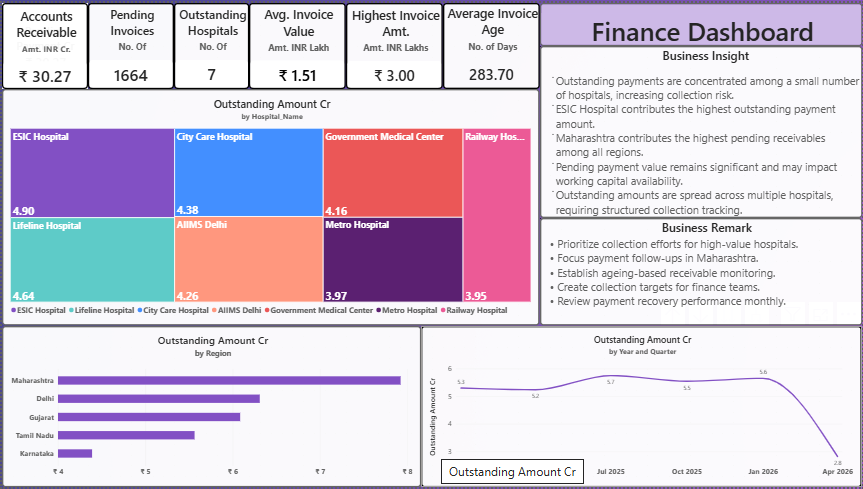

Layout of this report page (visuals, bound fields, positions):
{"tool":"powerbi","page":{"name":"Finance Dashboard","canvas":[1920,1080],"ordinal":2},"visuals":[{"type":"cardVisual","fields":{"Data":["Payment_Tracking.Pending Payment Cr"]},"box":[0,0,192,192],"z":0},{"type":"cardVisual","title":"Accounts Receivable","fields":{"Data":["Payment_Tracking.Pending Payment Cr"]},"box":[0,0,192,192],"z":1000},{"type":"cardVisual","title":"Pending Invoices","fields":{"Data":["Payment_Tracking.Pending Invoices"]},"box":[192,0,192,192],"z":2000},{"type":"cardVisual","title":"Outstanding Hospitals","fields":{"Data":["Payment_Tracking.Outstanding Hospitals"]},"box":[384,0,168,192],"z":3000},{"type":"cardVisual","title":"Highest Invoice Amt.","fields":{"Data":["Payment_Tracking.Highest Outstanding Amount  (₹ Lakh)"]},"box":[768,0,216,192],"z":4000},{"type":"cardVisual","title":"Average Invoice Age","fields":{"Data":["Payment_Tracking.Payment Age Days"]},"box":[984,0,216,192],"z":5000},{"type":"cardVisual","title":"Avg. Invoice Value","fields":{"Data":["Payment_Tracking.Average Outstanding Amount Lakh"]},"box":[552,0,216,192],"z":6000},{"type":"treemap","fields":{"Group":["Payment_Tracking.Hospital_Name"],"Values":["Payment_Tracking.Outstanding Amount Cr"]},"box":[0,192,1200,528],"z":7000},{"type":"clusteredBarChart","fields":{"Y":["Payment_Tracking.Outstanding Amount Cr"],"Category":["Tender_Master.Region"]},"box":[0,720,936,360],"z":8000},{"type":"lineChart","fields":{"Y":["Payment_Tracking.Outstanding Amount Cr"],"Category":["Payment_Tracking.Payment_Date.Variation.Date Hierarchy.Year","Payment_Tracking.Payment_Date.Variation.Date Hierarchy.Quarter"]},"box":[936,720,984,360],"z":9000},{"type":"textbox","title":"Business Insight ","box":[1200,96,720,384],"z":10000},{"type":"textbox","title":"Business Remark","box":[1200,480,720,240],"z":11000},{"type":"textbox","title":"Finance Dashboard","box":[1200,0,720,96],"z":12000}]}

Visuals, with their boxes in screenshot pixels (x1, y1, x2, y2), scaled from the page's 1920x1080 canvas onto the 863x489 screenshot:
cardVisual - Payment_Tracking.Pending Payment Cr: (x1=0, y1=0, x2=86, y2=87)
"Accounts Receivable" cardVisual: (x1=0, y1=0, x2=86, y2=87)
"Pending Invoices" cardVisual: (x1=86, y1=0, x2=173, y2=87)
"Outstanding Hospitals" cardVisual: (x1=173, y1=0, x2=248, y2=87)
"Highest Invoice Amt." cardVisual: (x1=345, y1=0, x2=442, y2=87)
"Average Invoice Age" cardVisual: (x1=442, y1=0, x2=539, y2=87)
"Avg. Invoice Value" cardVisual: (x1=248, y1=0, x2=345, y2=87)
treemap - Payment_Tracking.Hospital_Name x Payment_Tracking.Outstanding Amount Cr: (x1=0, y1=87, x2=539, y2=326)
clusteredBarChart - Payment_Tracking.Outstanding Amount Cr x Tender_Master.Region: (x1=0, y1=326, x2=421, y2=488)
lineChart - Payment_Tracking.Outstanding Amount Cr x Payment_Tracking.Payment_Date.Variation.Date Hierarchy.Year: (x1=421, y1=326, x2=862, y2=488)
"Business Insight " textbox: (x1=539, y1=43, x2=862, y2=217)
"Business Remark" textbox: (x1=539, y1=217, x2=862, y2=326)
"Finance Dashboard" textbox: (x1=539, y1=0, x2=862, y2=43)
